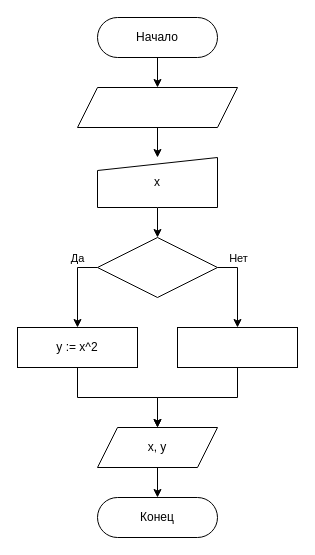
Image size: 315x555. Some labels were removed from this diagram. Here are the shapes that lost their labels. From the top down, the box of each, then its label:
(76, 86, 238, 128): Введите значение х:
(96, 236, 218, 298): x > 0
(176, 326, 298, 368): y := x^3
